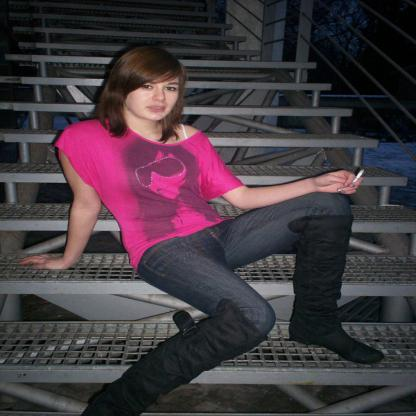smoking: (352, 169, 364, 183)
